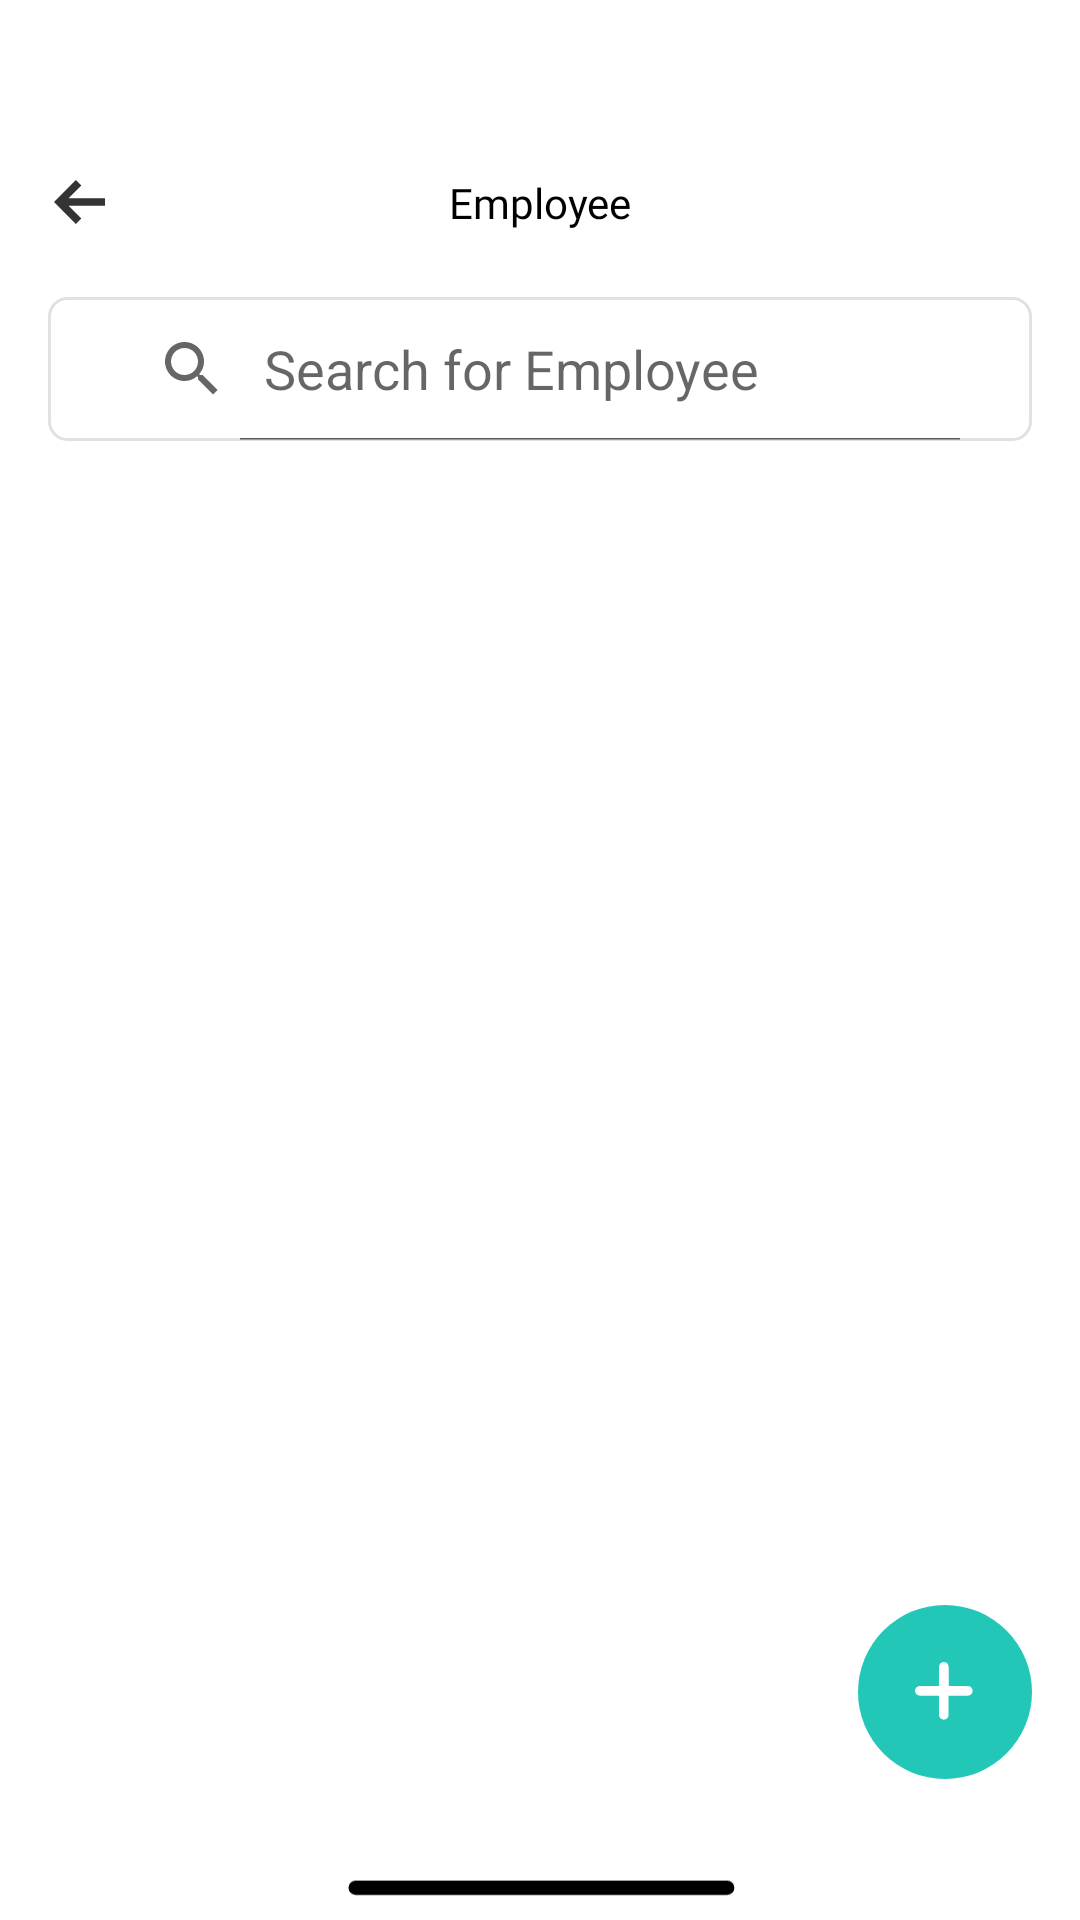

Named icons in this screenshot (1080px x 1920px) and their centers, [x,y]:
add: [945,1692]
left arrow: [79,202]
